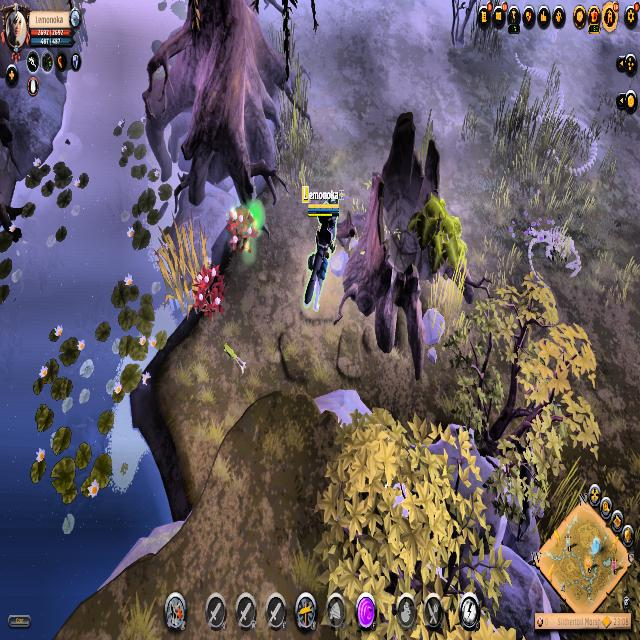fiber tier 5: (188, 258, 227, 322), (223, 202, 260, 264)
